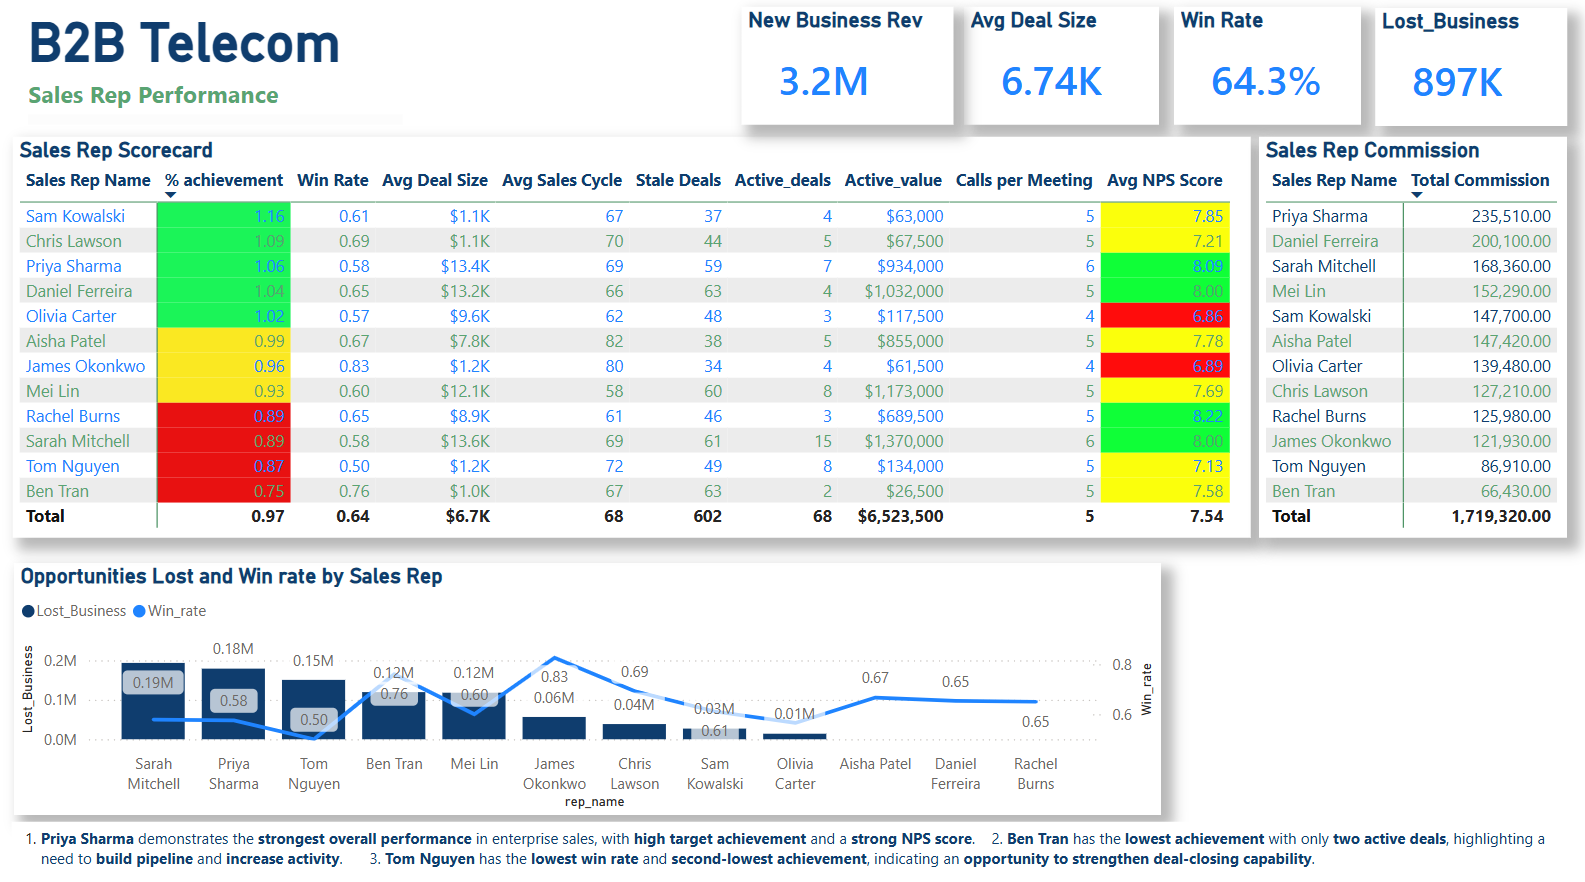

What the dashboard file says about the page in this screenshot:
{"tool":"powerbi","page":{"name":"Salesrep_performance","canvas":[1280,720],"ordinal":2},"visuals":[{"type":"cardVisual","title":"Avg Deal Size","fields":{"Data":["Measures_Table.Avg_Deal_Size"]},"box":[775.5,11.1,156.3,94.8],"z":0},{"type":"cardVisual","title":"Win Rate","fields":{"Data":["Measures_Table.Win_rate"]},"box":[944.2,11.1,149,94.8],"z":1000},{"type":"lineClusteredColumnComboChart","title":"Opportunities Lost and Win rate by Sales Rep","fields":{"Category":["reps.rep_name"],"Y":["Measures_Table.Lost_Business"],"Y2":["Measures_Table.Win_rate"]},"box":[16,456,917,202],"z":3000},{"type":"pivotTable","title":"Sales Rep Scorecard","fields":{"Rows":["reps.rep_name"],"Values":["Measures_Table.% achivement","Measures_Table.Win_rate","Measures_Table.Avg_Deal_Size","Measures_Table.Avg_sales_cycle","Measures_Table.Stale_Deals","Measures_Table.Active_deals","Measures_Table.Active_value","Measures_Table.Calls_per_Meeting","Avg(customers.nps_score)"]},"box":[15,115,990,321],"z":4000},{"type":"shape","title":"B2B Telecom","box":[27.4,13.7,299.1,91.9],"z":5000},{"type":"cardVisual","title":"New Business Rev","fields":{"Data":["Measures_Table.New_Business_Value"]},"box":[598.3,11.1,168.6,94.8],"z":6000},{"type":"cardVisual","title":"Lost_Business","fields":{"Data":["Measures_Table.Lost_Business"]},"box":[1105.4,12.3,152.6,94.8],"z":7000},{"type":"pivotTable","title":"Sales Rep Commission","fields":{"Rows":["reps.rep_name"],"Values":["Measures_Table.Total Commission"]},"box":[1012,115,246,321],"z":8000},{"type":"textbox","box":[14,663,1251,53],"z":8001}]}

Visuals, with their boxes in screenshot pixels (x1, y1, x2, y2), scaled from the page's 1280x720 canvas onto the 1585x882 screenshot:
"Avg Deal Size" cardVisual: {"x1": 960, "y1": 14, "x2": 1154, "y2": 130}
"Win Rate" cardVisual: {"x1": 1169, "y1": 14, "x2": 1354, "y2": 130}
"Opportunities Lost and Win rate by Sales Rep" lineClusteredColumnComboChart: {"x1": 20, "y1": 559, "x2": 1155, "y2": 806}
"Sales Rep Scorecard" pivotTable: {"x1": 19, "y1": 141, "x2": 1244, "y2": 534}
"B2B Telecom" shape: {"x1": 34, "y1": 17, "x2": 404, "y2": 129}
"New Business Rev" cardVisual: {"x1": 741, "y1": 14, "x2": 950, "y2": 130}
"Lost_Business" cardVisual: {"x1": 1369, "y1": 15, "x2": 1558, "y2": 131}
"Sales Rep Commission" pivotTable: {"x1": 1253, "y1": 141, "x2": 1558, "y2": 534}
textbox: {"x1": 17, "y1": 812, "x2": 1566, "y2": 877}
